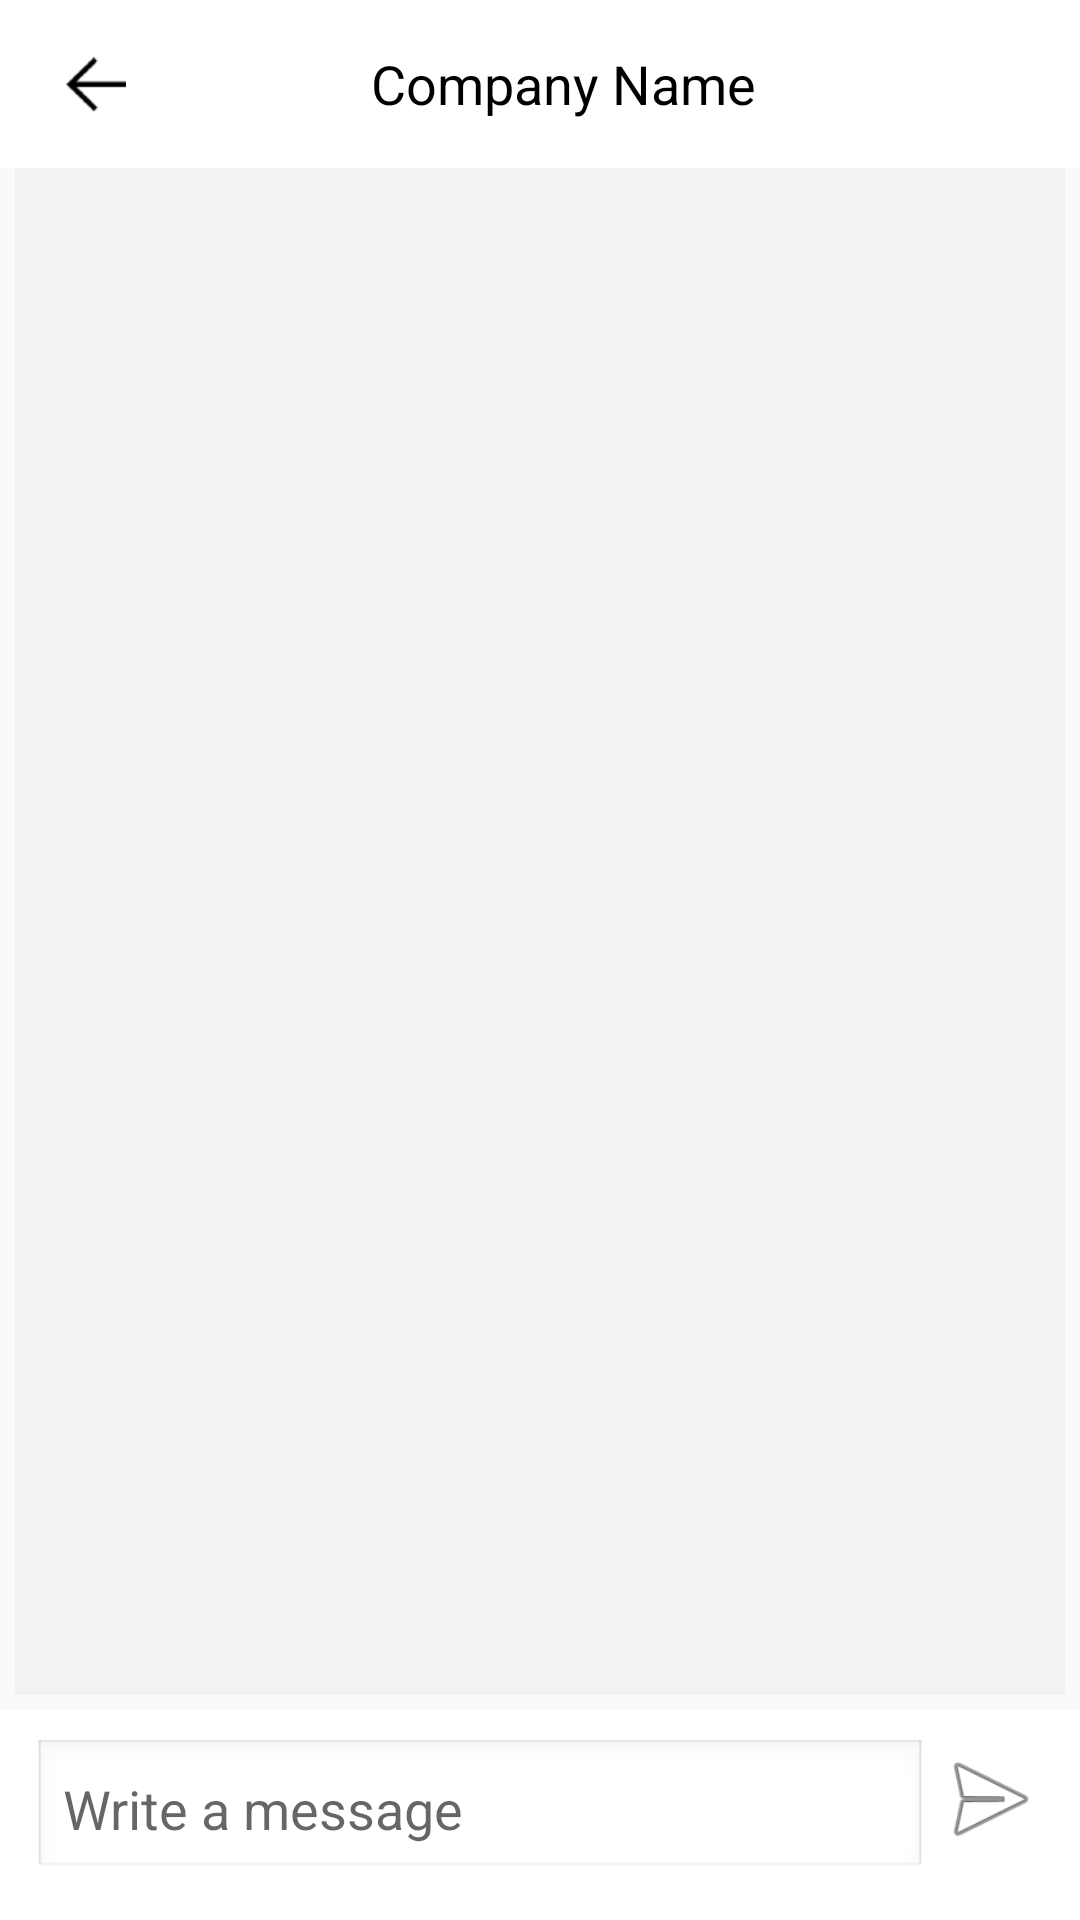

Screen size 1080x1920. Icon name, then its box in pixels as BBox(x1, y1, x2, y2):
back arrow: BBox(66, 57, 126, 112)
send: BBox(953, 1762, 1028, 1836)
